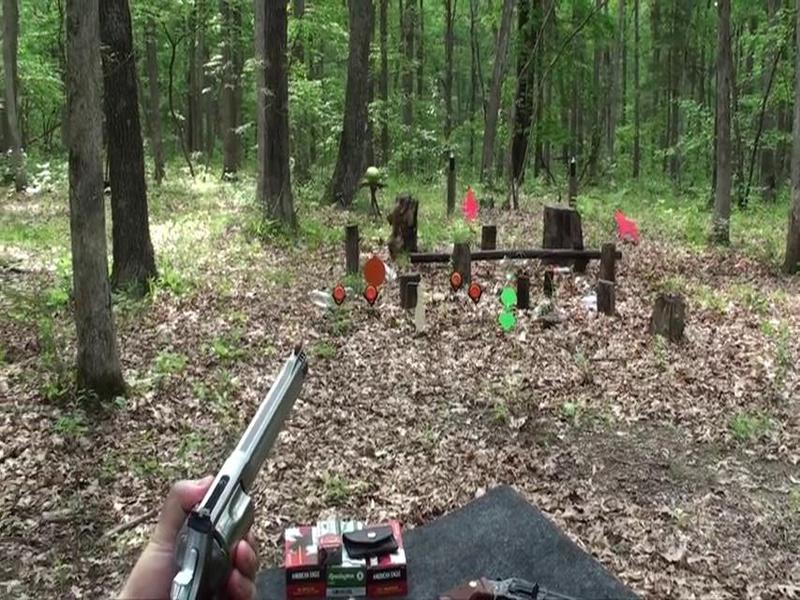Revolver: (162, 355, 339, 600)
